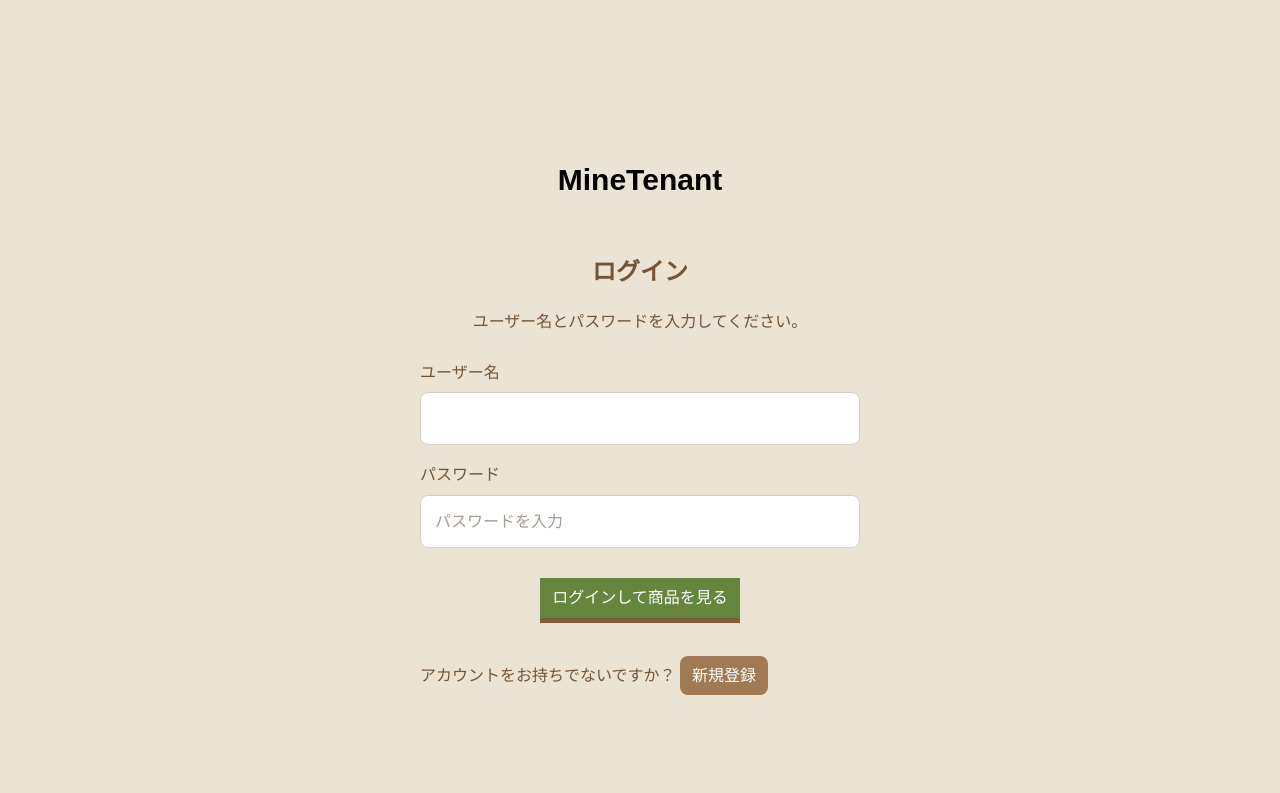
MineTenant routes › 未ログインで保護画面を開くとログイン後に元の画面へ戻る
Type "demo_user" into the field labelled "ユーザー名" at (640, 419), box [420,392,860,445]
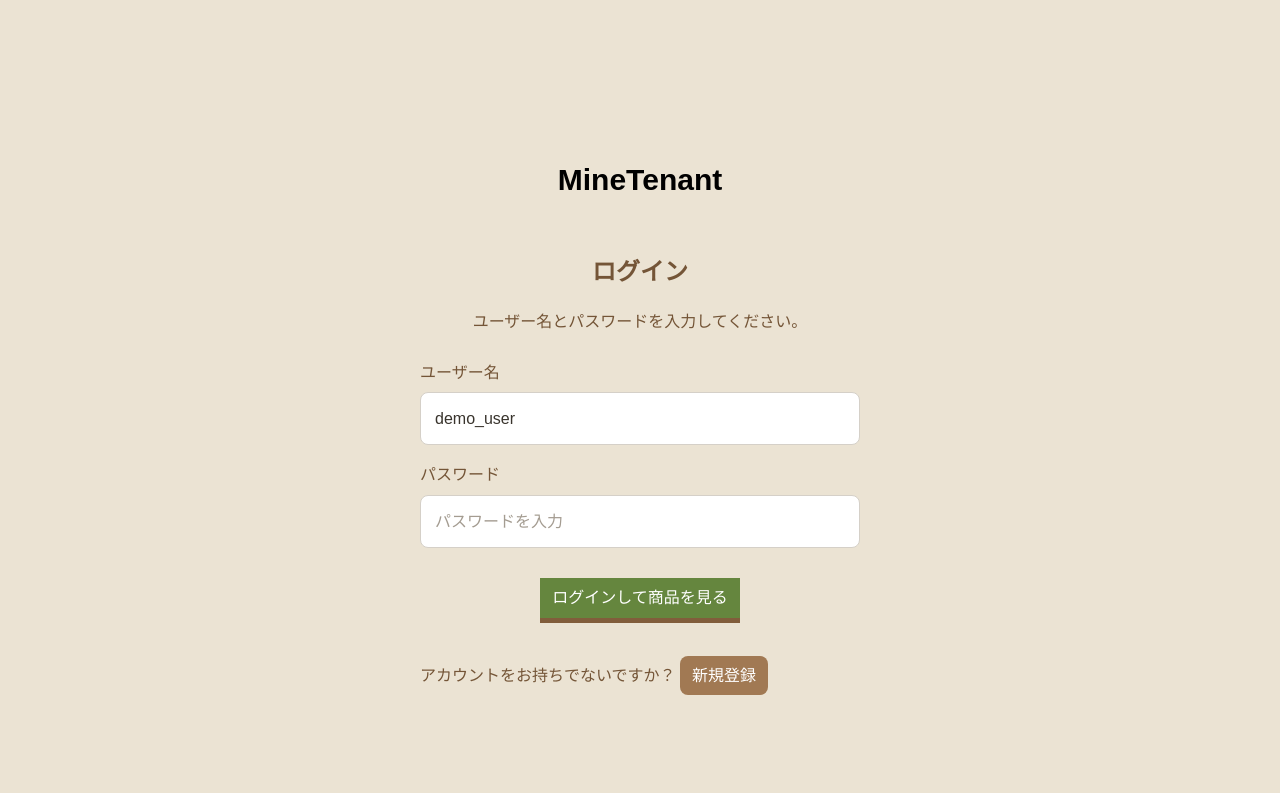
Type "password" into the password field labelled "パスワード" at (640, 521), box [420,495,860,548]
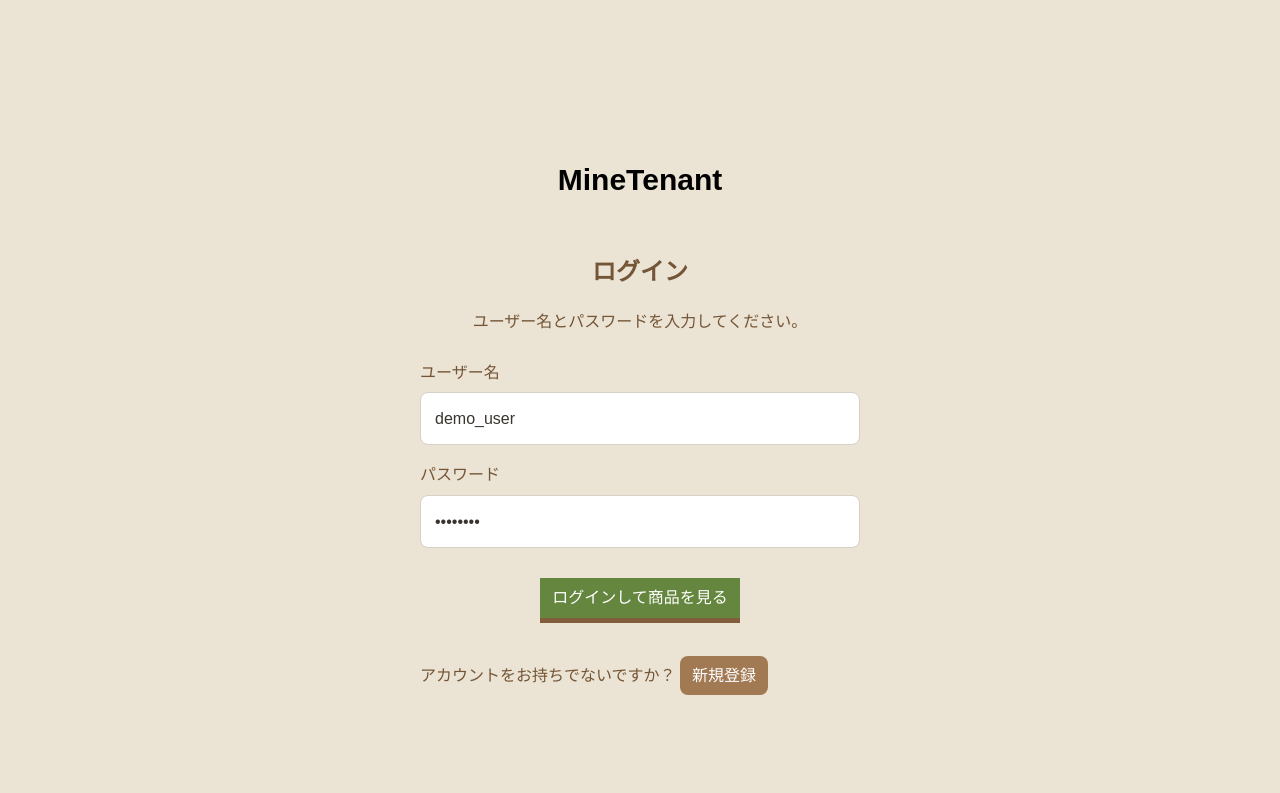
Click the button "ログインして商品を見る" at (640, 598), box [540,578,740,618]
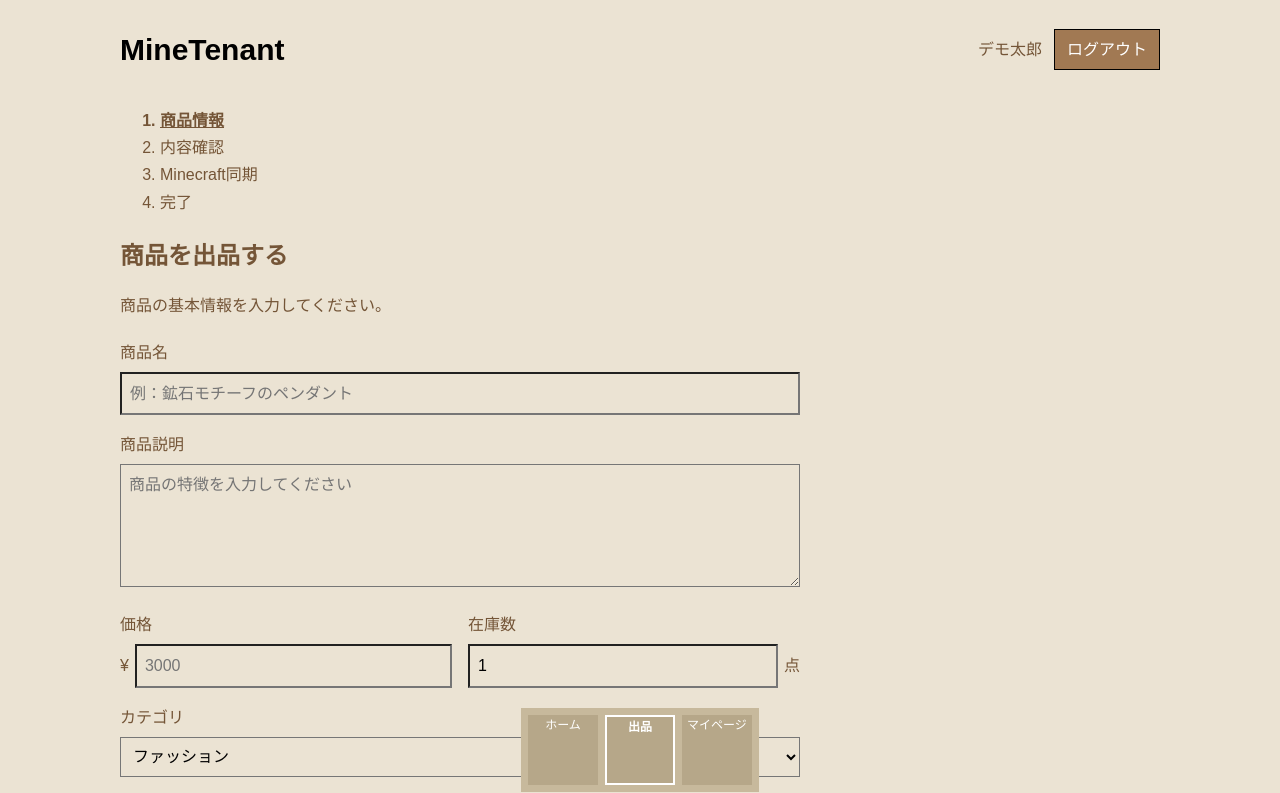
Expected: the field labelled "商品名" is shown, [120,372,800,415]
